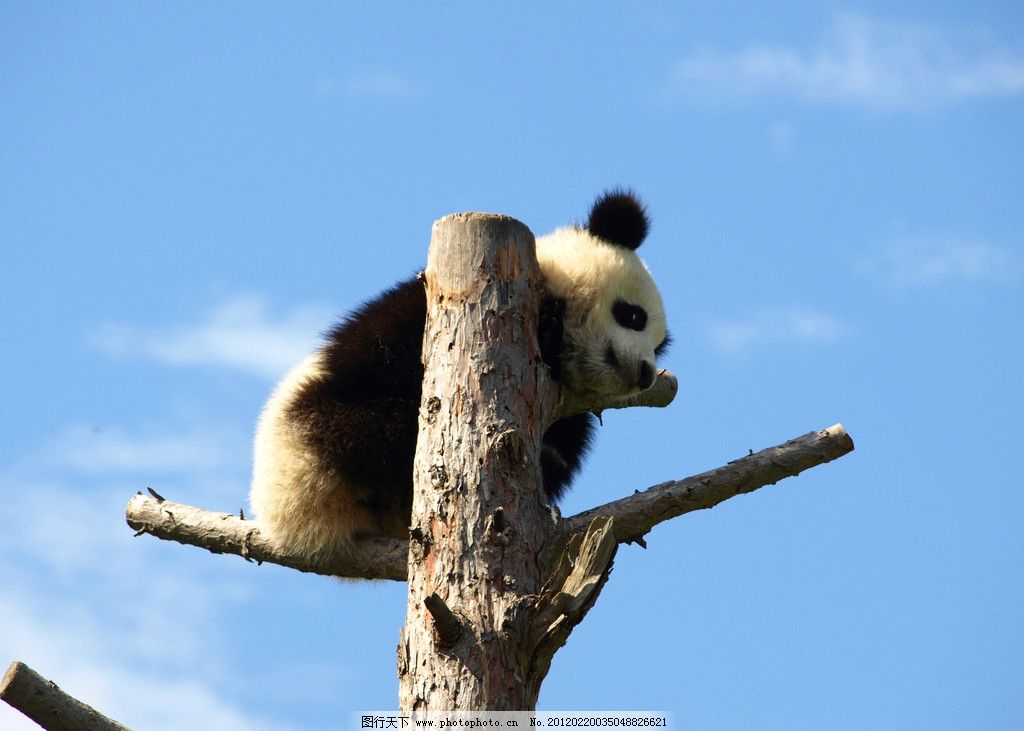panda: (223, 186, 714, 582)
